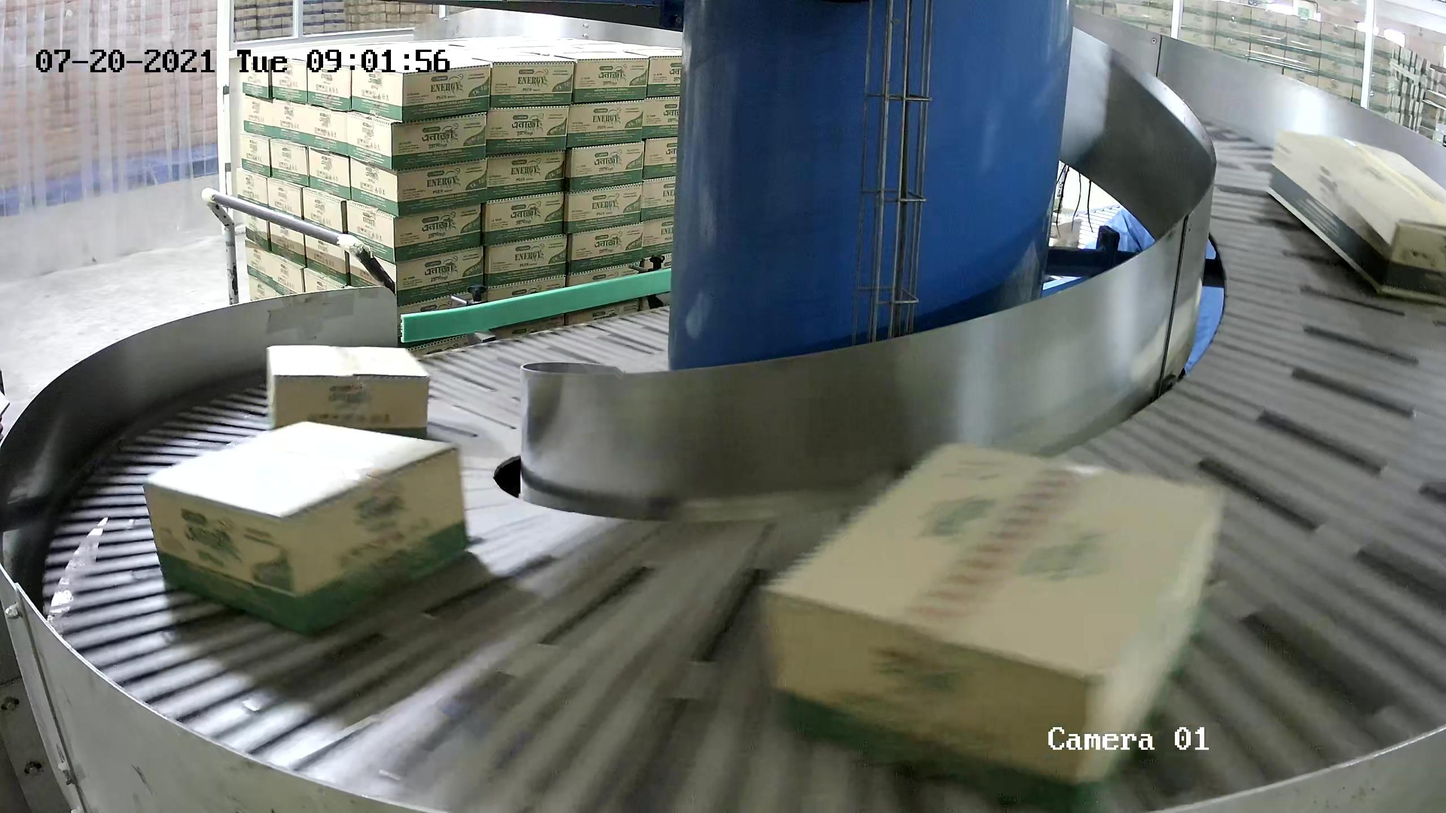Box: (750, 439, 1234, 813), (140, 418, 470, 636), (1265, 128, 1446, 307), (266, 343, 432, 443)
